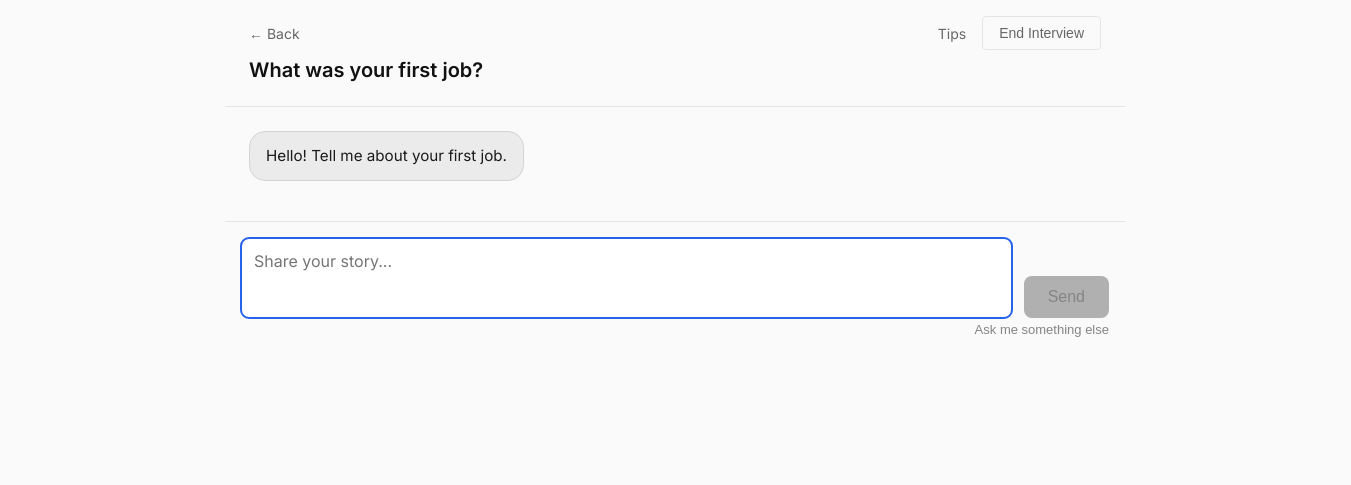
InterviewSession › clears error when sending a new message
The width and height of the screenshot is (1351, 485).
Type "First message" into the text box with placeholder "Share your story..." at [626, 278], box [241,238,1012,318]
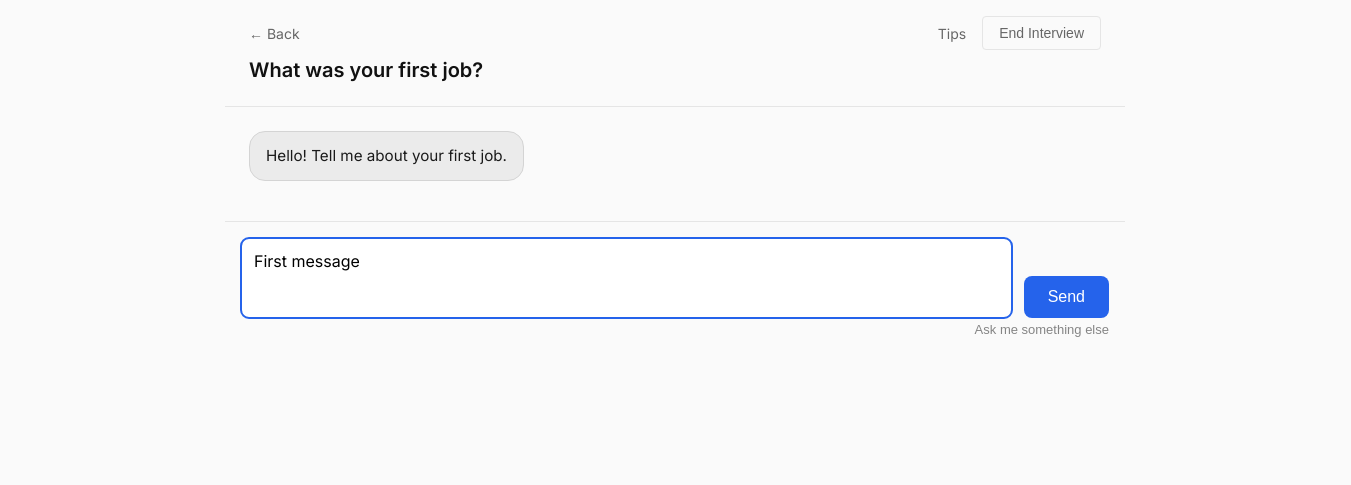
Press Enter
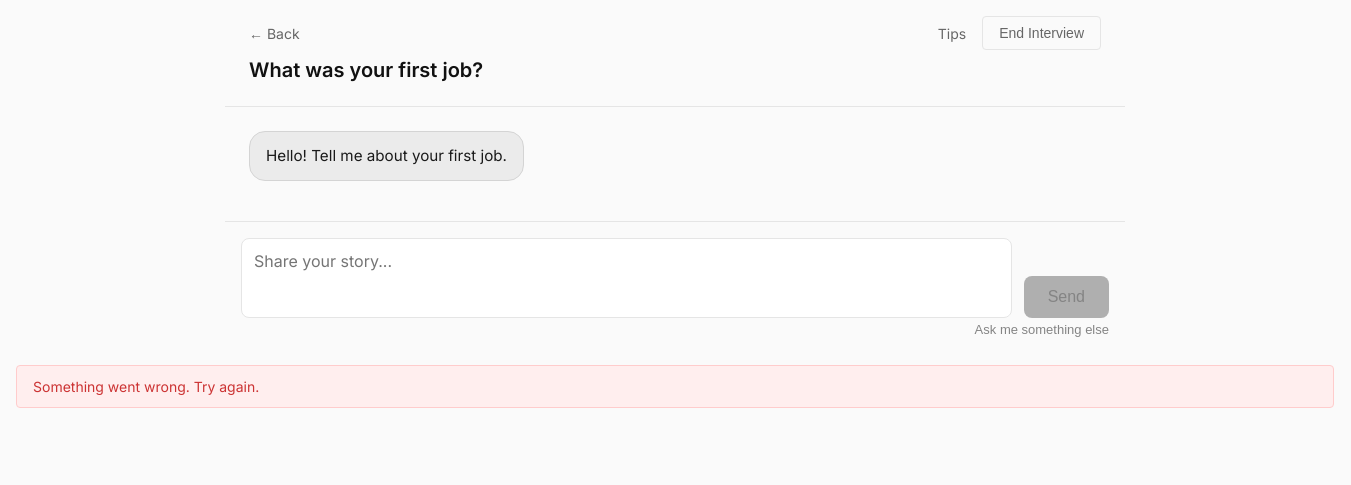
Expected: the text "Something went wrong. Try again." is shown, [16,365,1334,408]
Type "Second message" into the text box with placeholder "Share your story..." at [626, 278], box [241,238,1012,318]
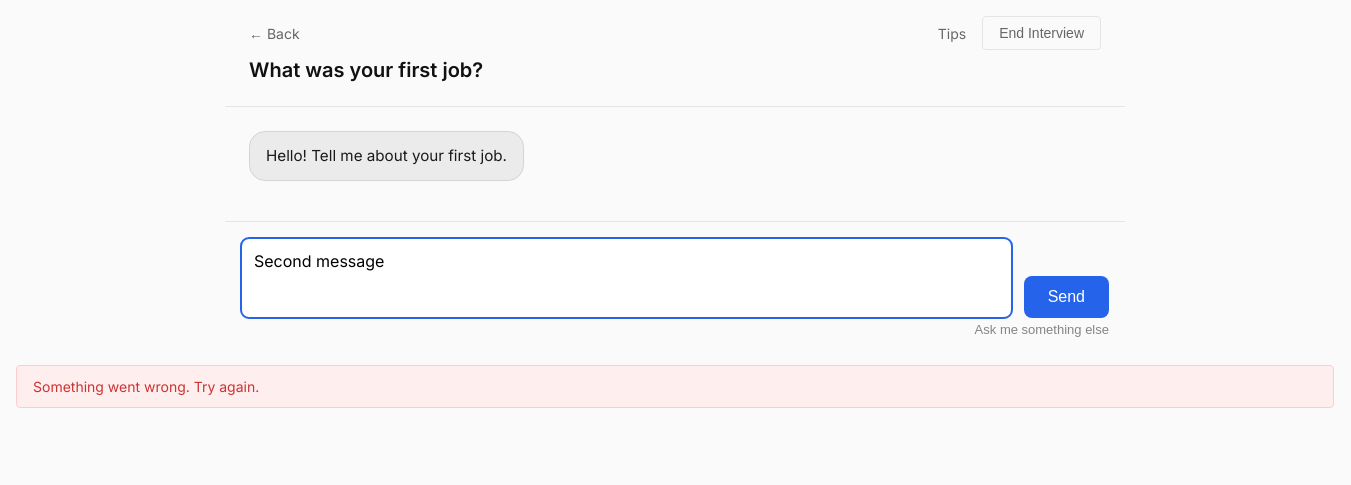
Press Enter
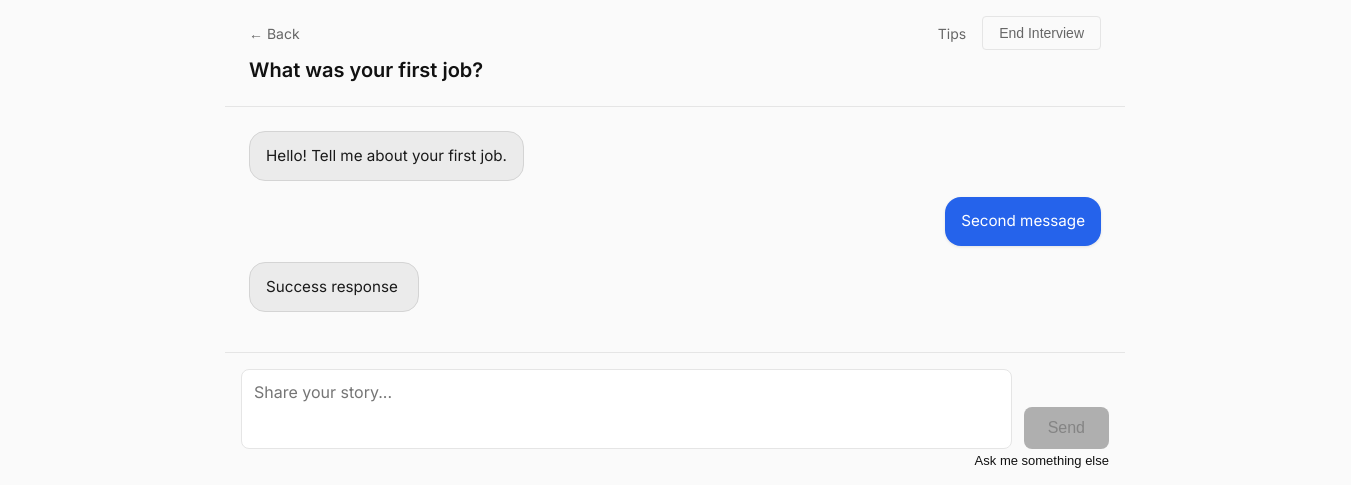
Expected: the text box with placeholder "Share your story..." is enabled, [241,369,1012,449]
Expected: the text "Something went wrong. Try again." is gone
Expected: the text "Success response" is shown, [249,262,419,312]
